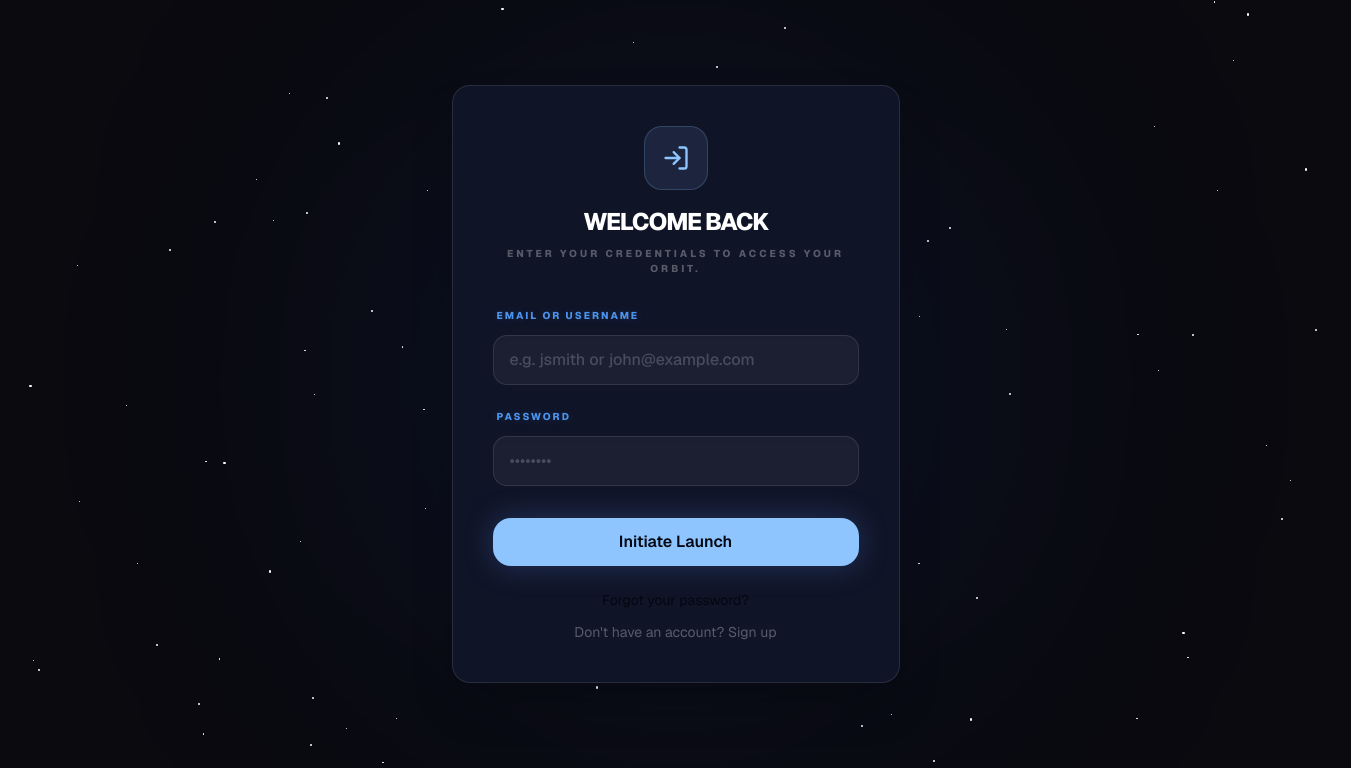
it: LoginPage › shows invalid credentials error when signIn returns non-banned error
This screenshot has width=1366, height=768.
Step 1. Type "deeti" into the field with placeholder "e.g. jsmith or john@example.com" → [676, 360], box [492,335,858,385]
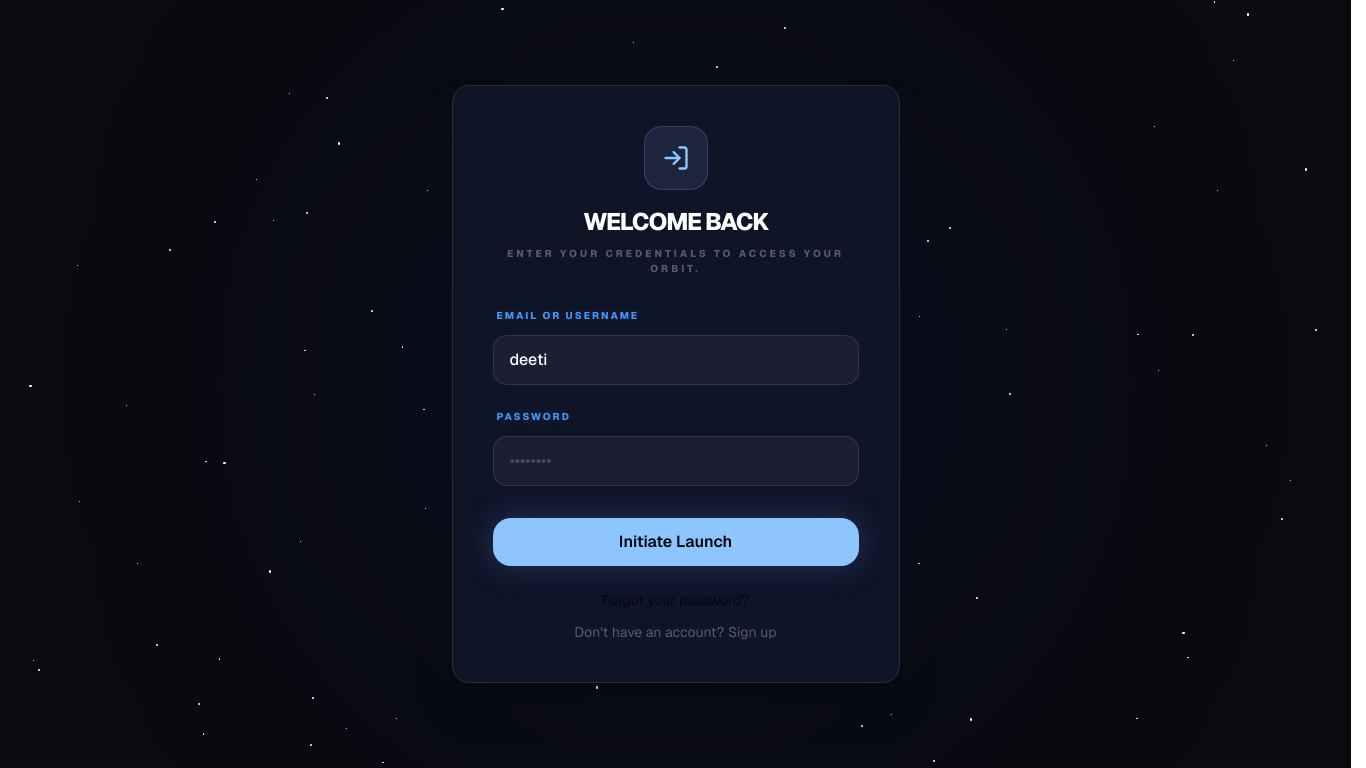
Step 2. Type "wrongpass" into the password field with placeholder "••••••••" → [676, 461], box [492,436,858,486]
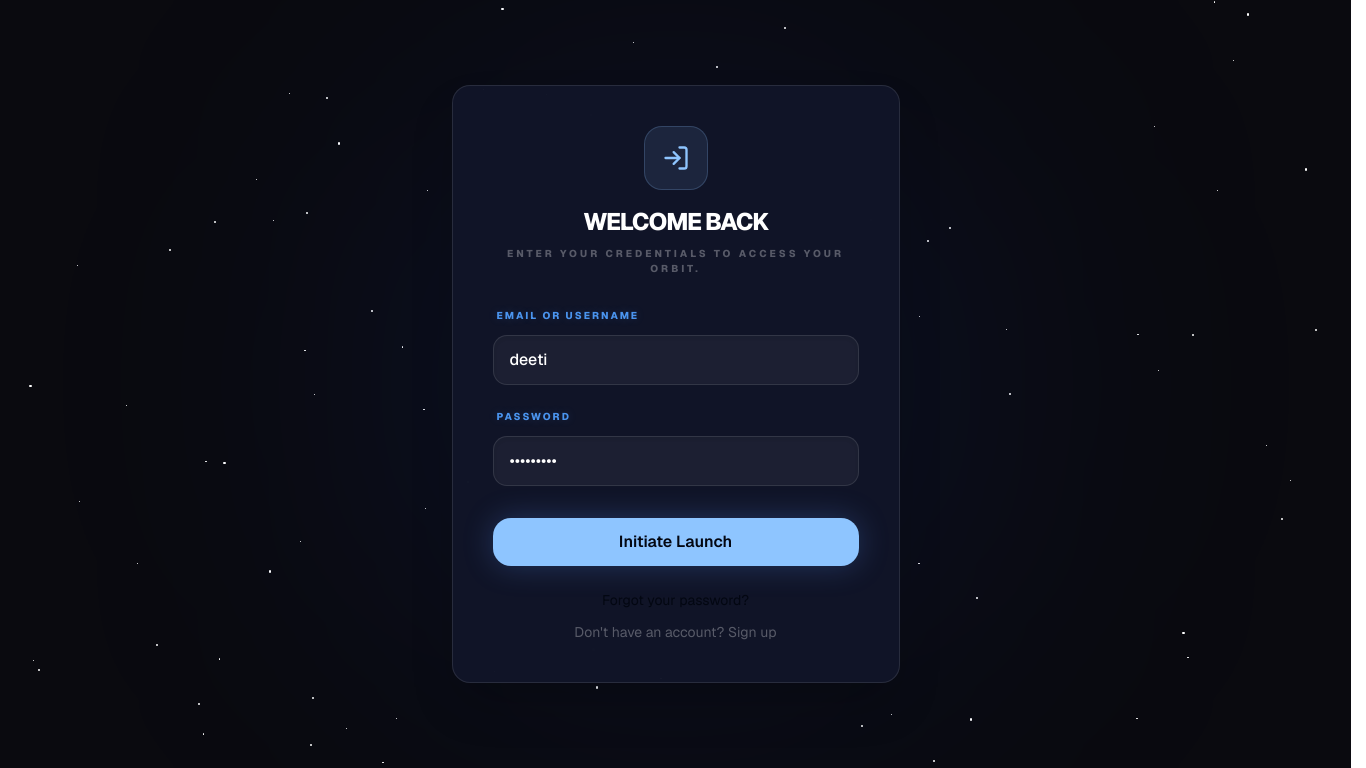
Step 3. Click the button "Initiate Launch" → [676, 542], box [492,518,858,566]
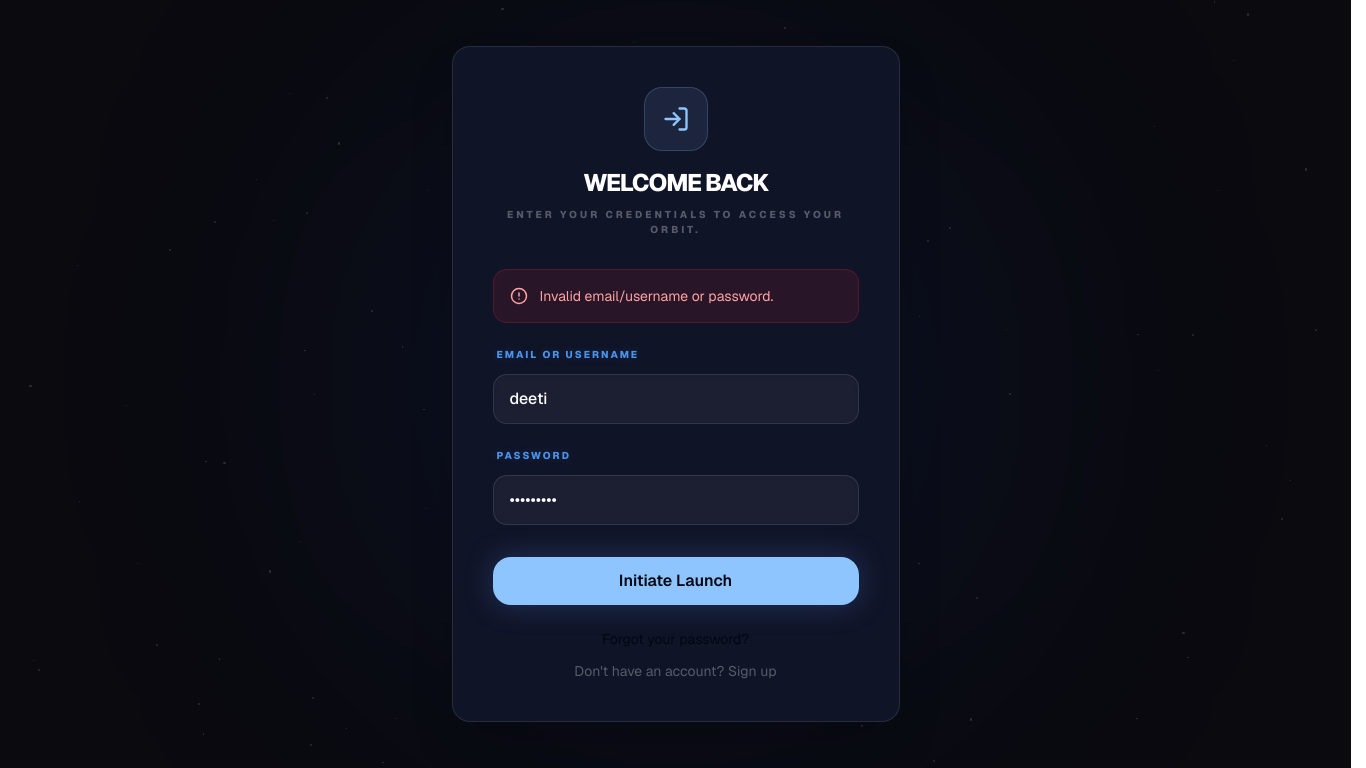
Check: the button reads "Initiate Launch", box [492,557,858,605]
Check: the text "Invalid email/username or password." is shown, box [540,286,773,306]
